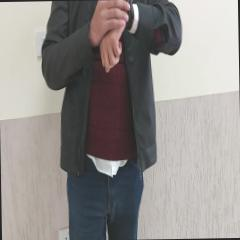not-gloved: (89, 0, 132, 39), (100, 25, 126, 69)
